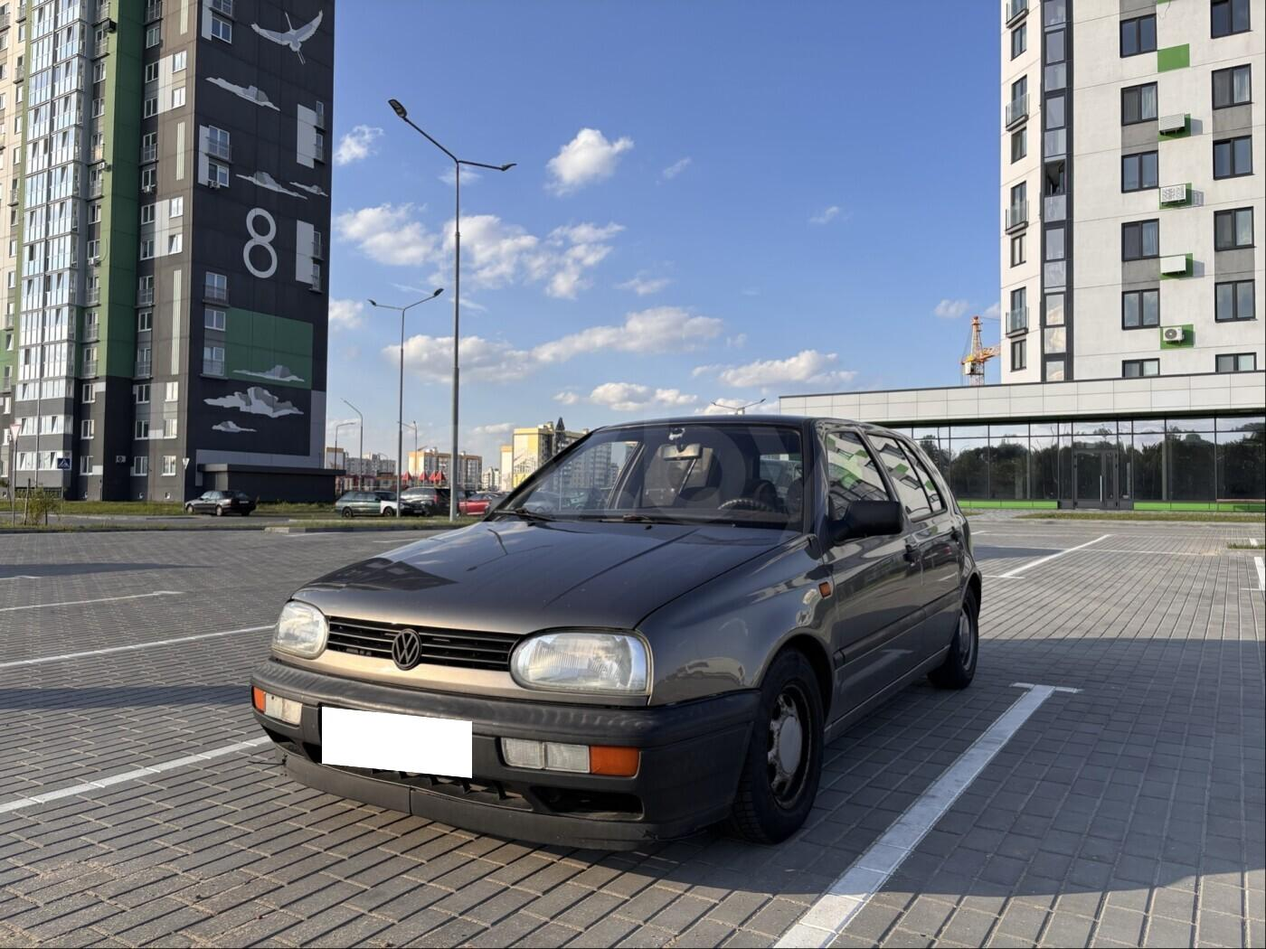Golf_1991-2000: (250, 402, 987, 859)
